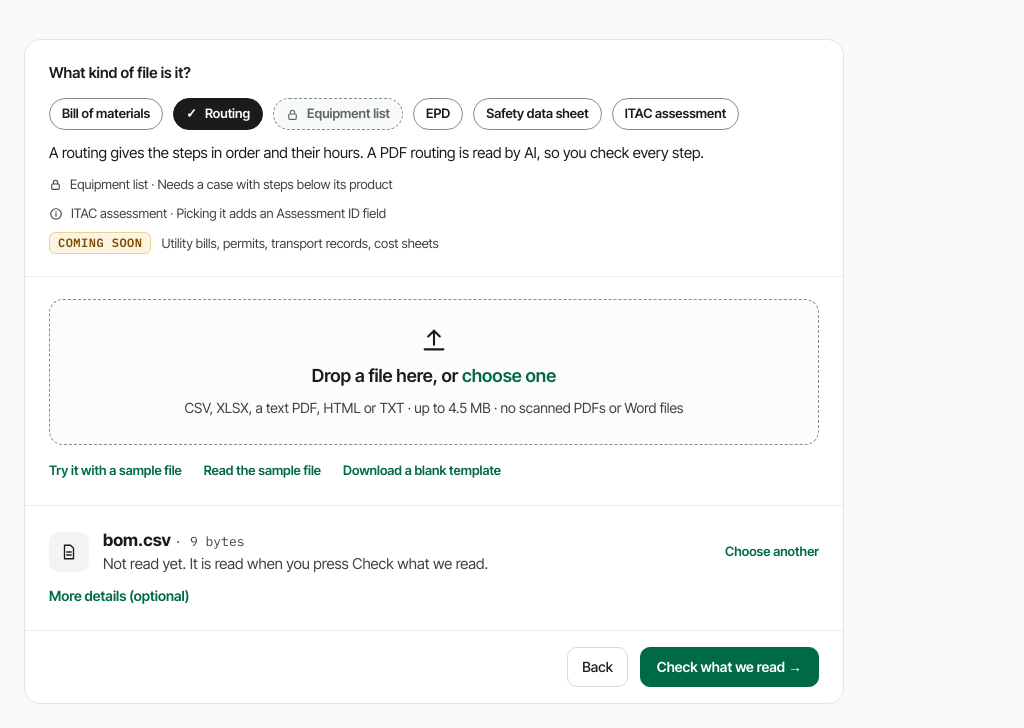
Test: import review quantities › shows what the document said once a quantity is corrected
The width and height of the screenshot is (1024, 728).
Earlier steps of the test are not shown.
(page scrolled)
Click the button "Check what we read →" at x=729, y=666, box 640,646 -> 819,686
(page scrolled)
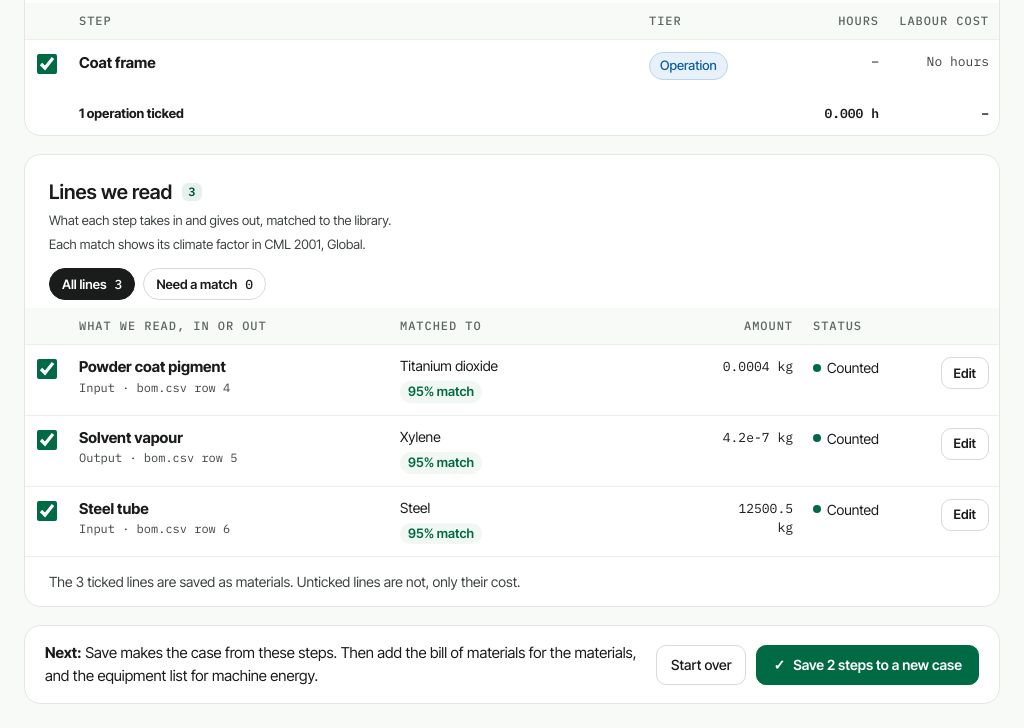
Check: the text "Powder coat pigment" is shown, box 79,357 -> 226,376
Click the button "Edit" in the row of "Powder coat pigment" at x=965, y=373, box 941,357 -> 989,389
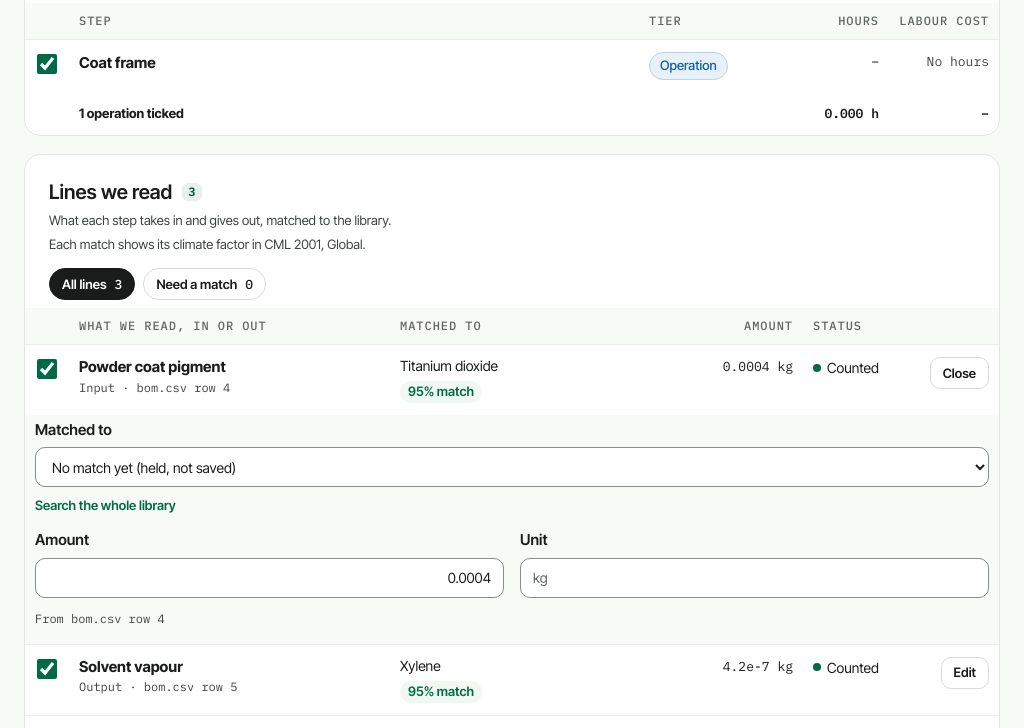
Replace the text in the field named "Amount of Powder coat pigment" with "0.004" at x=270, y=578, box 35,558 -> 504,598
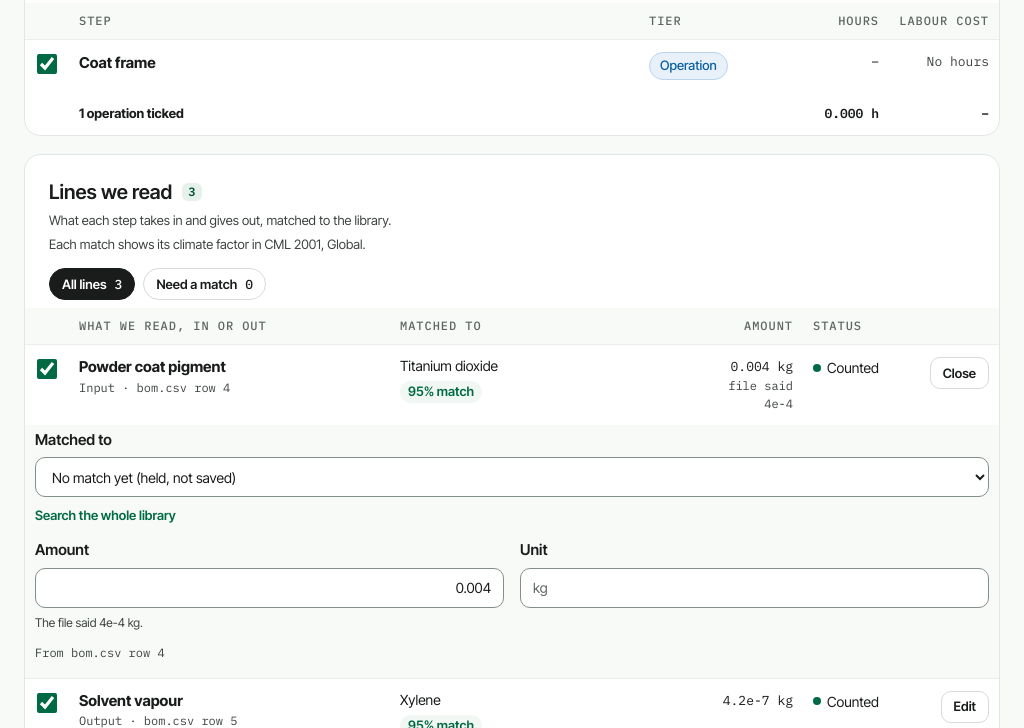
Check: the text "file said 4e-4" is shown, box 721,377 -> 793,413
